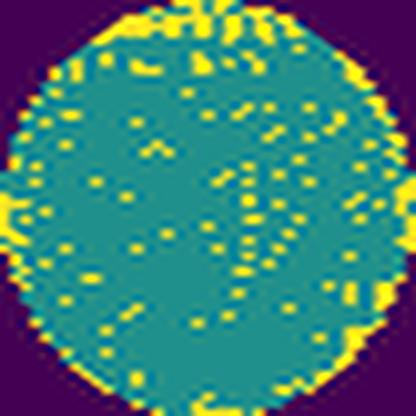Edge-Loc: (284, 266, 410, 402), (98, 0, 307, 47), (0, 187, 35, 247), (390, 175, 416, 253)
